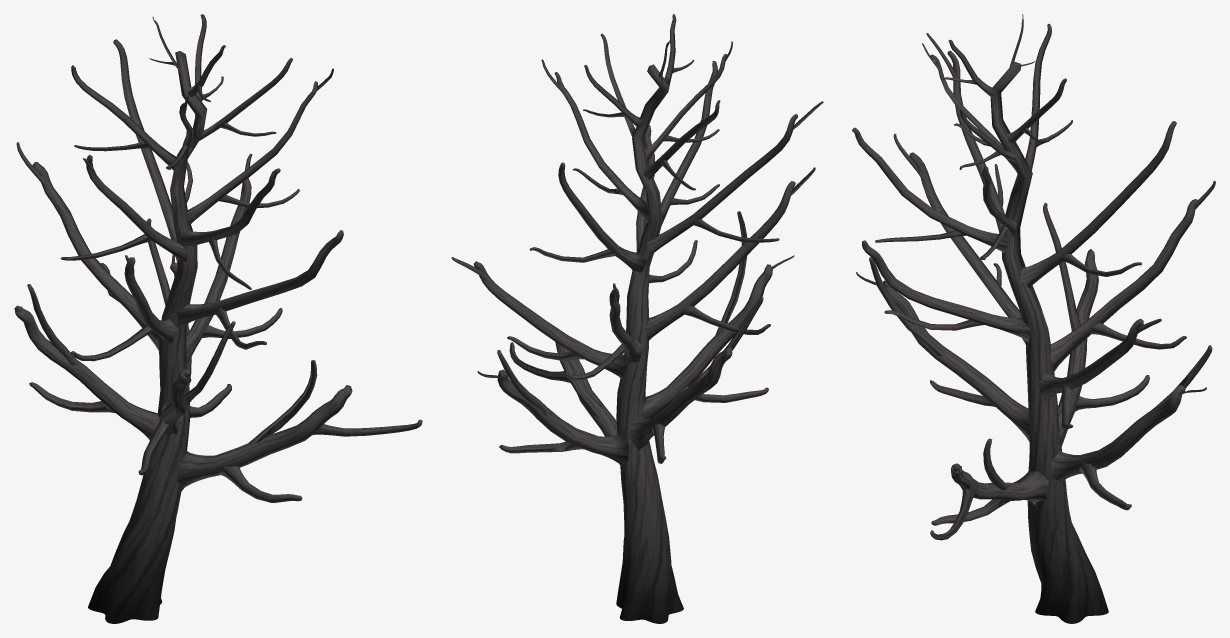
File: DeadTree_2.gltf
3 renders of one model, left to right at view 1: azimuth 30°, elevation 25°; view 2: azimuth 150°, elevation 25°; view 3: azimuth 270°, elevation 25°, orthographic. The views are drawn at different scales.
Parts seen in each view (by area): view 1: DeadTree_2; view 2: DeadTree_2; view 3: DeadTree_2.
Part boxes in pixels (x1,y1,x2,y2): DeadTree_2: (14, 14, 422, 623); DeadTree_2: (451, 14, 823, 623); DeadTree_2: (852, 14, 1215, 623).
Size of the model in its own units: 6.73 by 11.49 by 6.38.
Materials: 1 (1 with a texture image).
